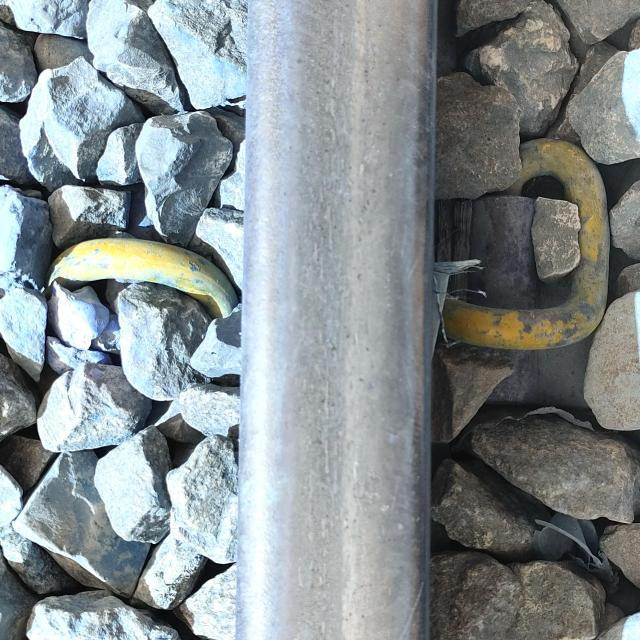Good Fasteners: (445, 139, 617, 409), (49, 238, 235, 317)
